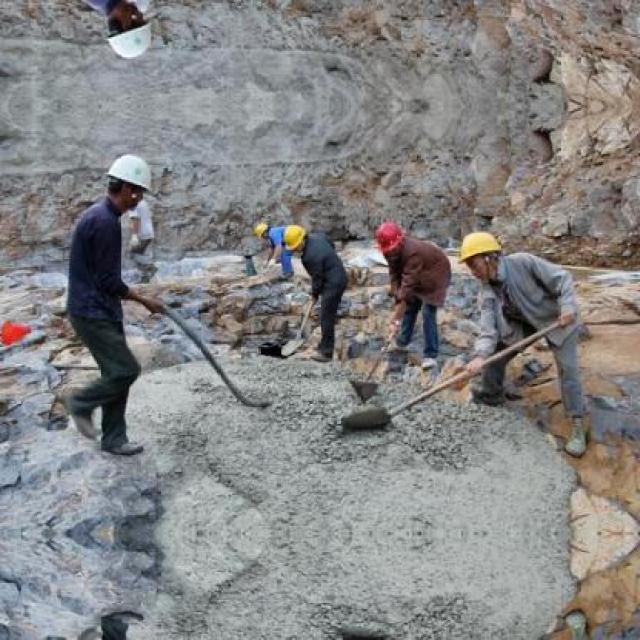helmet: (102, 148, 153, 211), (102, 1, 153, 64), (454, 228, 503, 279), (374, 217, 404, 256), (281, 223, 304, 250), (250, 220, 270, 238)
